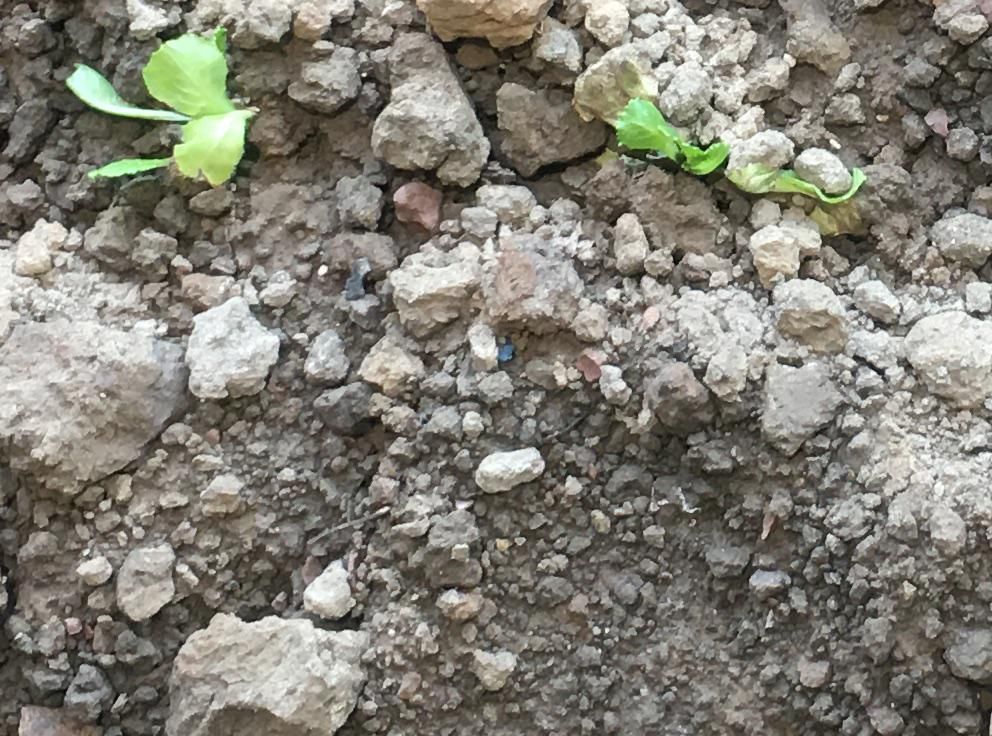block: (1, 318, 189, 492), (163, 610, 365, 736), (367, 22, 497, 194), (189, 302, 277, 398)
